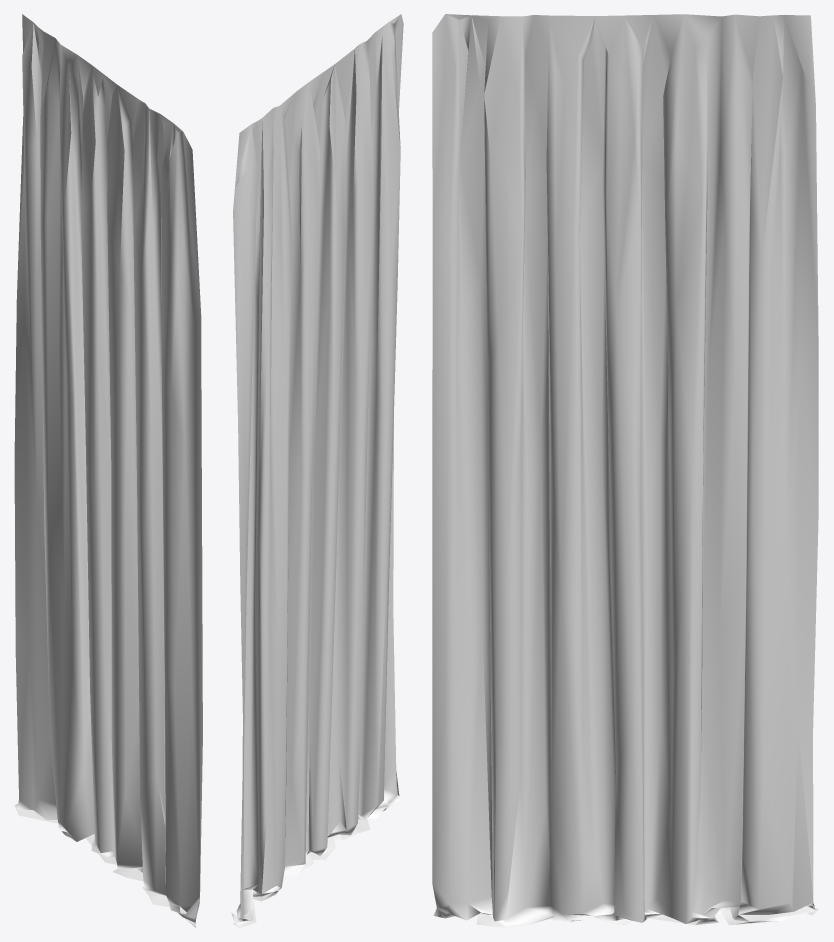
Rendered from Curtains0003.obj.
3 renders of one model, left to right at view 1: azimuth 30°, elevation 25°; view 2: azimuth 150°, elevation 25°; view 3: azimuth 270°, elevation 25°, orthographic. The views are drawn at different scales.
Bounding box in the file's own units: 0.118 × 2.35 × 0.918.
Materials: 1 (1 with a texture image).
